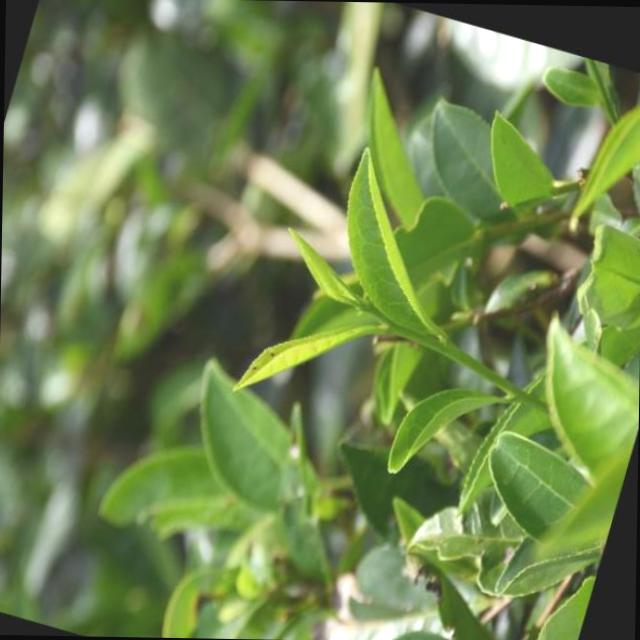Stem: (388, 320, 402, 333)
